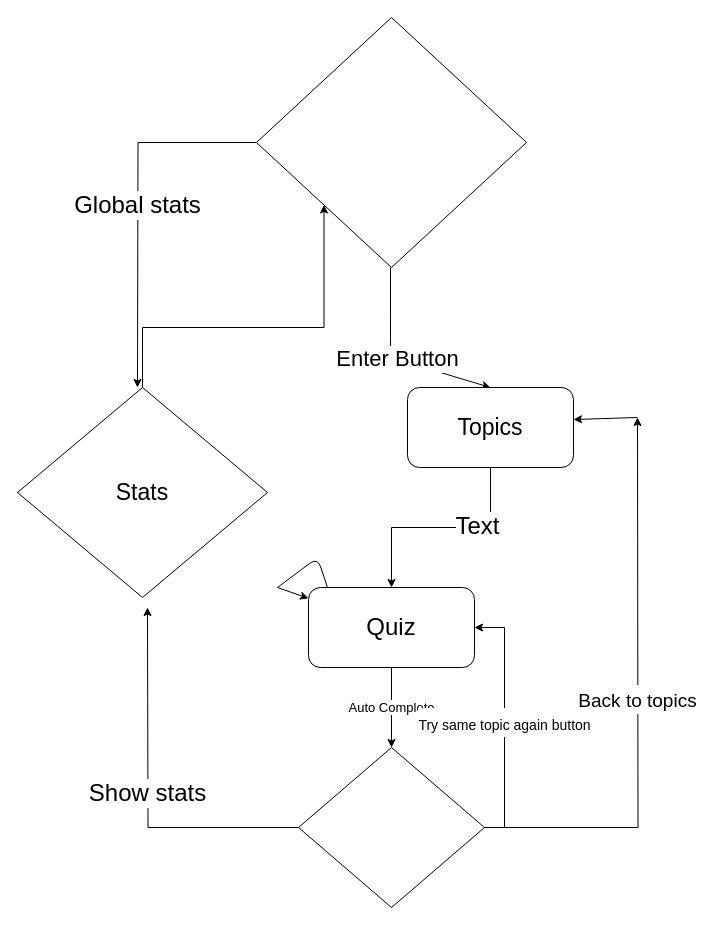
This 714x925 diagram has some shape labels left out. The box of each missing label's shape, as (x1, y1, x2, y2) in pixels:
Results: (298, 746, 484, 908)
Welcome: (256, 16, 526, 268)
